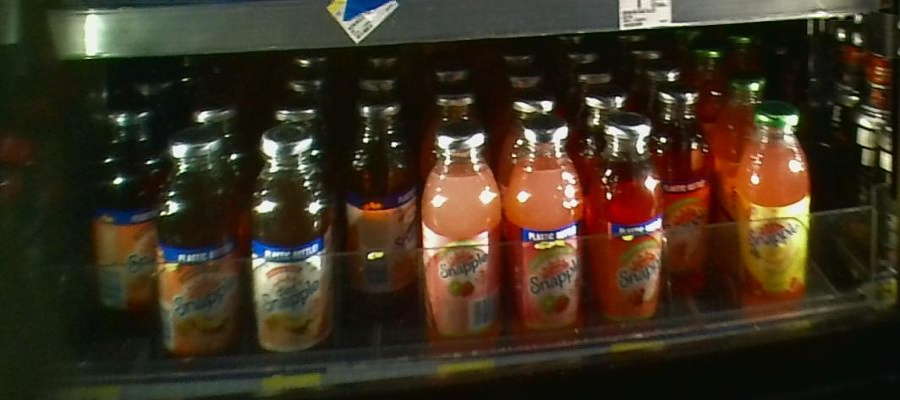bottle: (156, 131, 243, 379), (247, 125, 330, 370), (422, 126, 506, 361), (345, 91, 420, 345), (586, 100, 663, 344), (508, 113, 582, 364), (84, 92, 155, 353), (738, 95, 815, 326), (664, 76, 712, 293)
